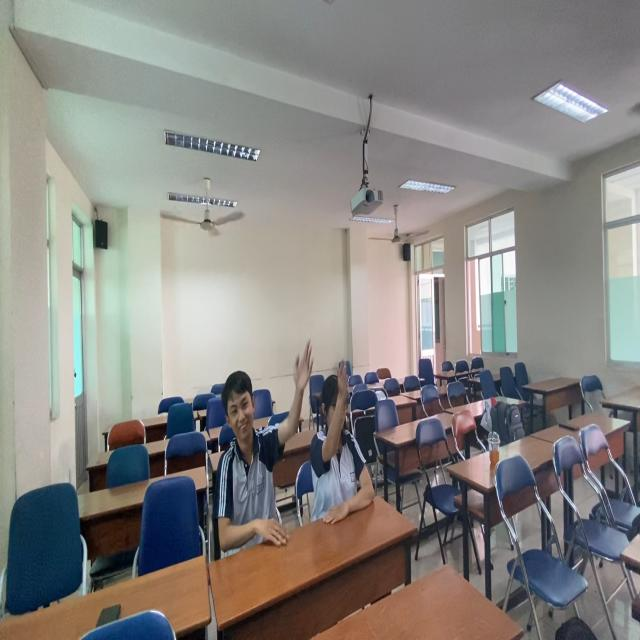raise_hand: (213, 342, 313, 546), (317, 355, 377, 532)
